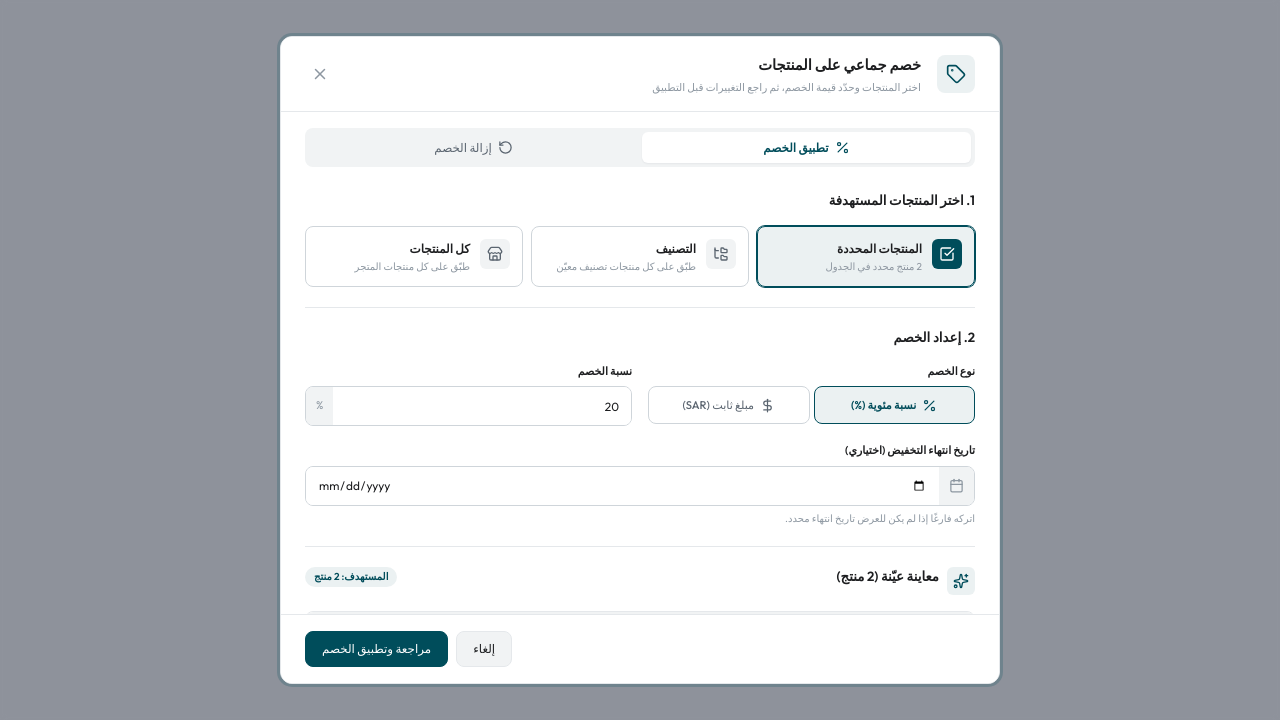
BulkDiscountModal › advances to confirmation and executes bulk discount on Salla
Click the button "مراجعة وتطبيق الخصم" at (377, 649), box x1=305 y1=631 x2=448 y2=667
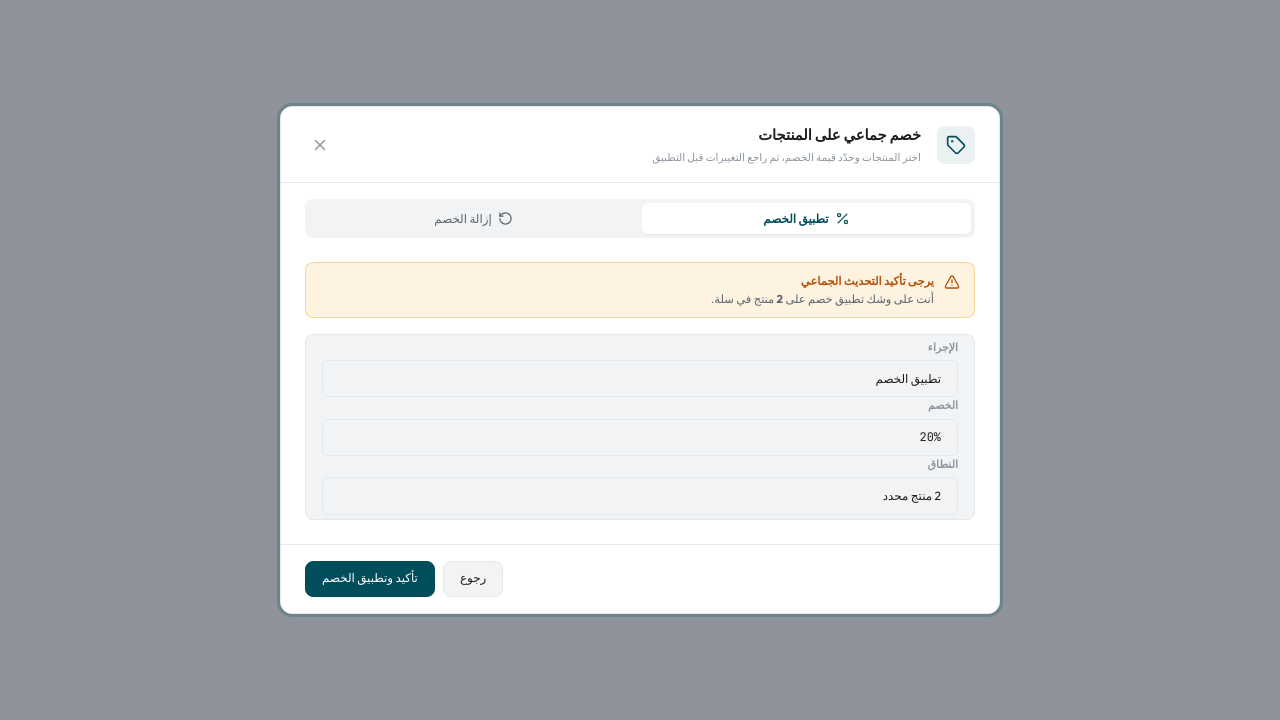
Now the text "يرجى تأكيد التحديث الجماعي" is shown, box x1=801 y1=274 x2=934 y2=288
Click the button "تأكيد وتطبيق الخصم" at (370, 578), box x1=305 y1=560 x2=435 y2=596
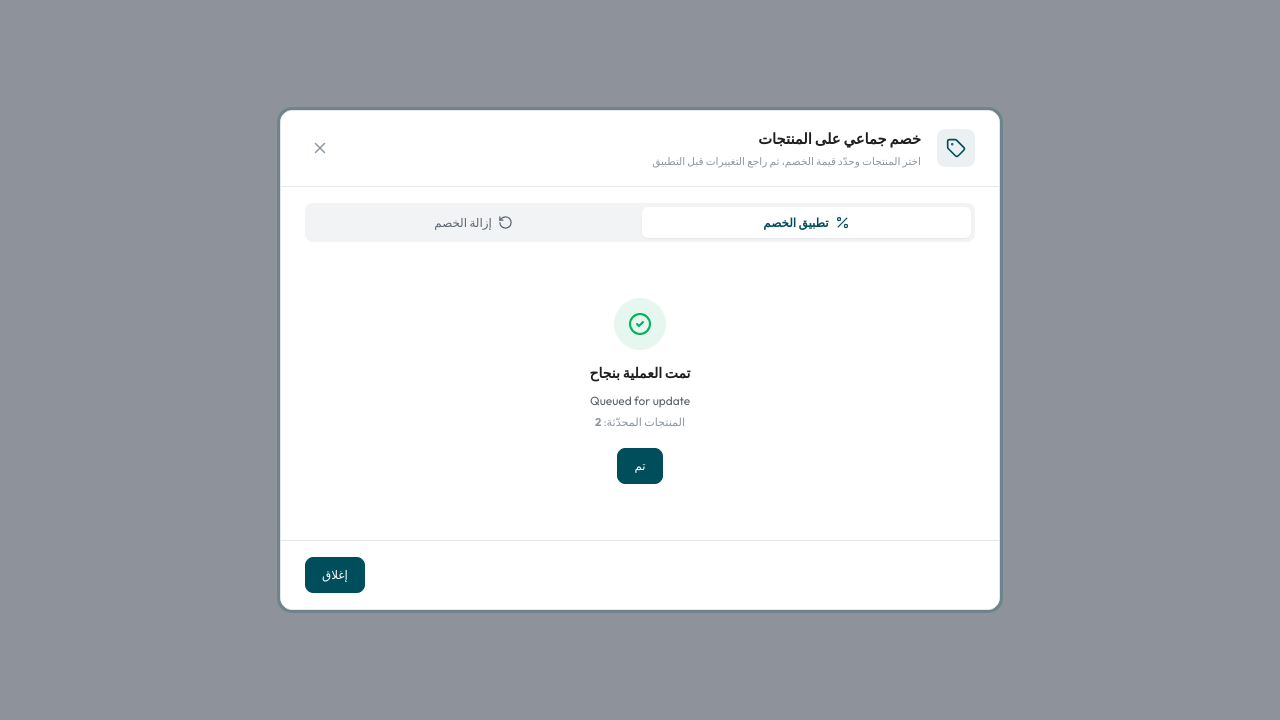
Now the heading "تمت العملية بنجاح" is shown, box x1=590 y1=362 x2=690 y2=384
